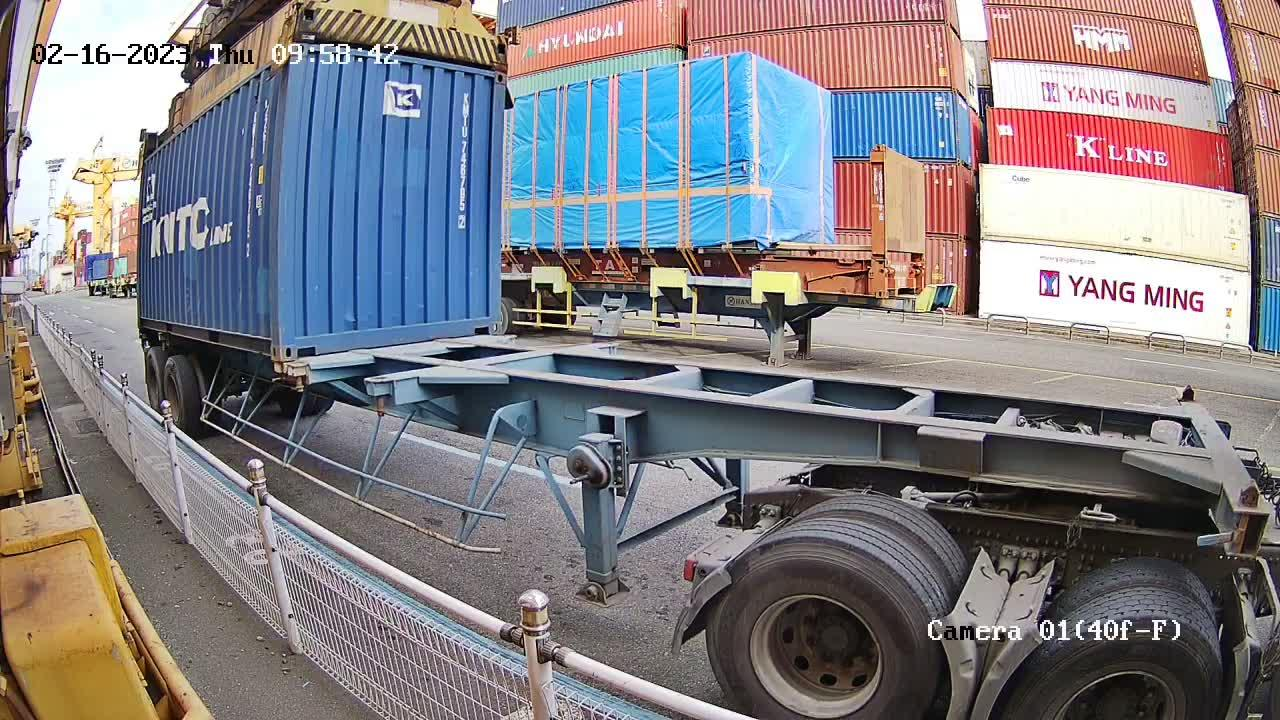Chassis: (298, 335, 515, 372)
Cone: (289, 363, 305, 397), (273, 362, 290, 386)
Hole_L: (280, 320, 327, 361)
Hole_R: (467, 303, 505, 336), (250, 322, 281, 361)
Tire: (704, 539, 941, 718), (1002, 616, 1223, 719), (165, 363, 187, 421), (144, 351, 162, 405)
